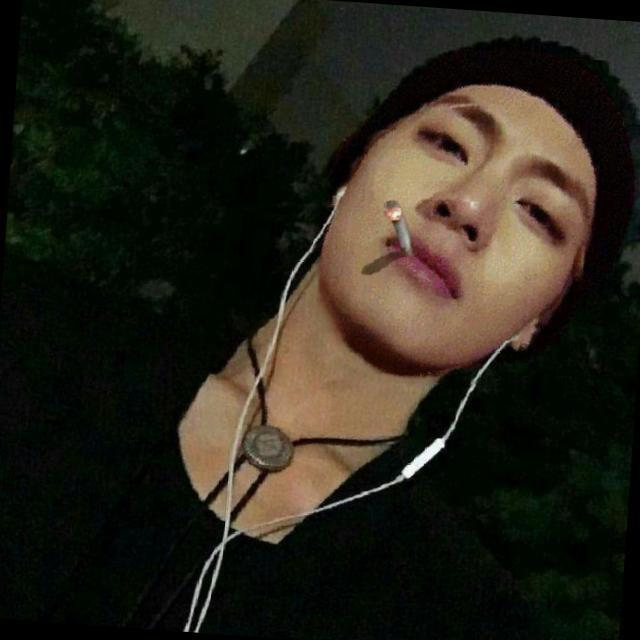cigarette: (376, 185, 418, 275)
